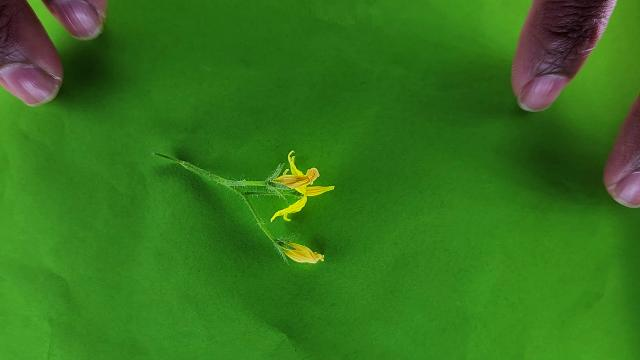Anthesis: (267, 152, 334, 224), (274, 236, 325, 264)
